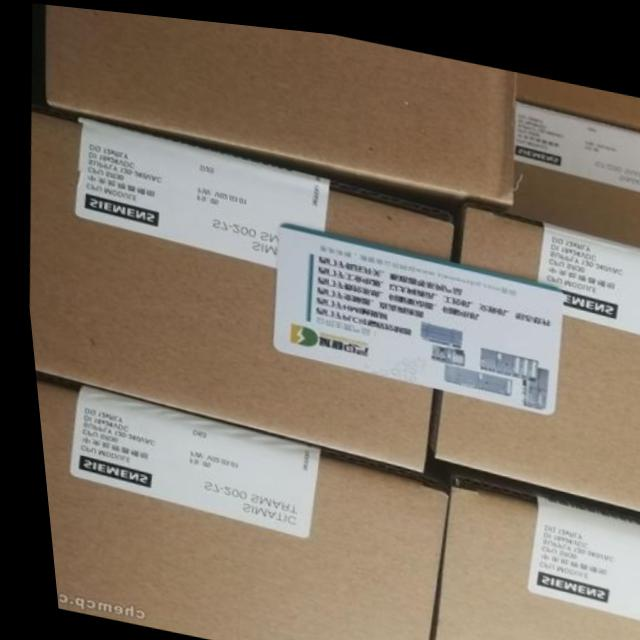box: (23, 110, 449, 463), (28, 370, 441, 640), (44, 4, 515, 200), (419, 199, 640, 501), (415, 460, 640, 640), (461, 89, 640, 235), (514, 60, 640, 120)
